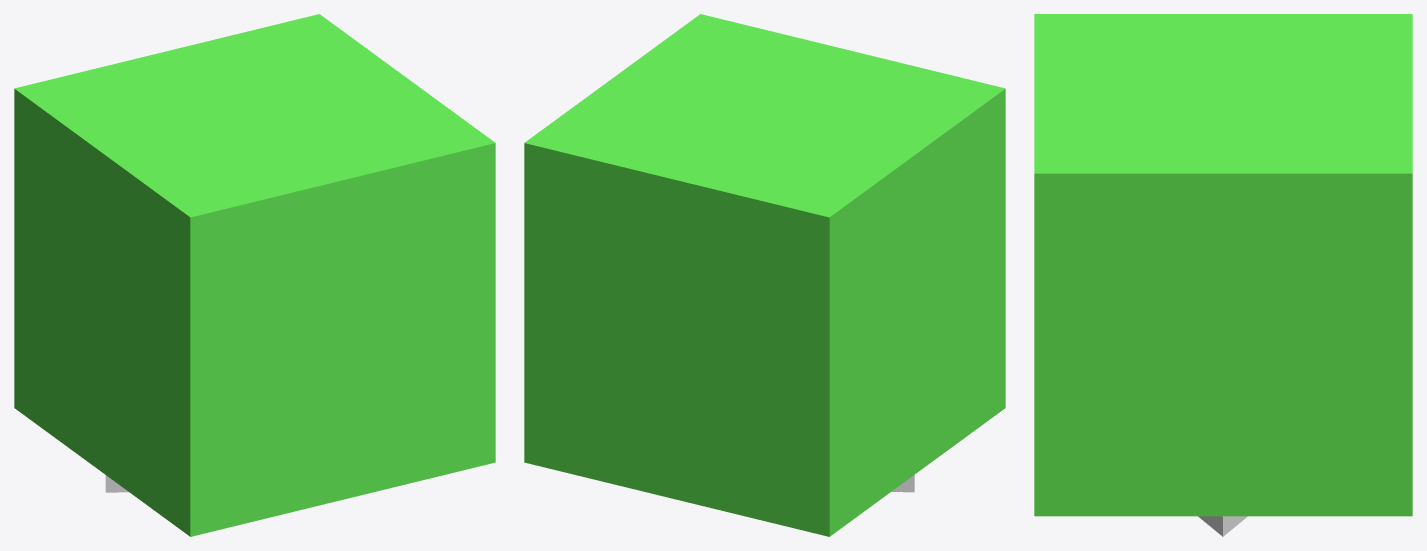
The model's file is slide.glb.
The picture shows the model from 3 angles, left to right: view 1: azimuth 30°, elevation 25°; view 2: azimuth 150°, elevation 25°; view 3: azimuth 270°, elevation 25°; orthographic projection. The views are drawn at different scales.
Visible parts, largest first — view 1: cube; view 2: cube; view 3: cube, pyramid.
Boxes of the visible parts, x1,y1,x2,y2 form: cube: [14, 14, 495, 536]; cube: [524, 14, 1005, 536]; cube: [1034, 14, 1412, 516]; pyramid: [1198, 516, 1247, 536].
Bounding box in the file's own units: 1 × 1.07 × 1.
Materials: 4 (4 with a texture image).
